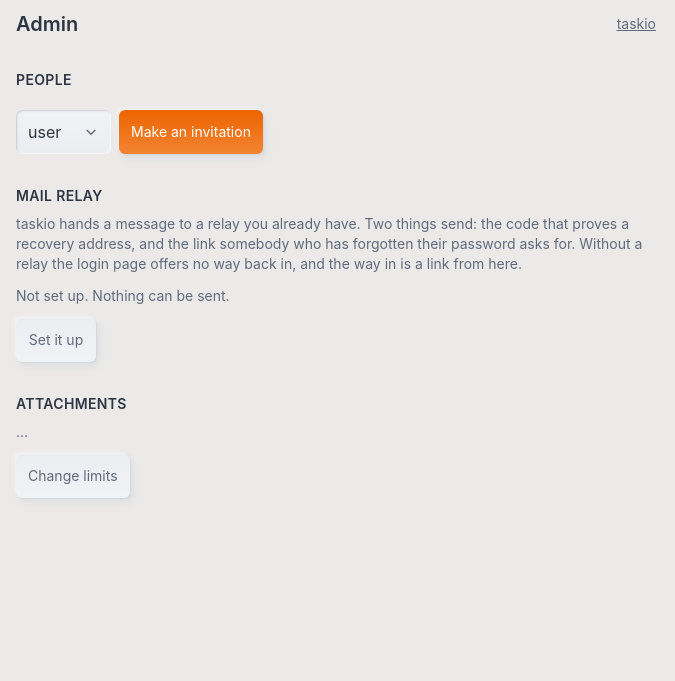
Test case: Admin › shows an invitation under the button that made it, with a copy
The image size is (675, 681).
Click the button "Make an invitation".
click(191, 132)  # box [119,110,263,154]
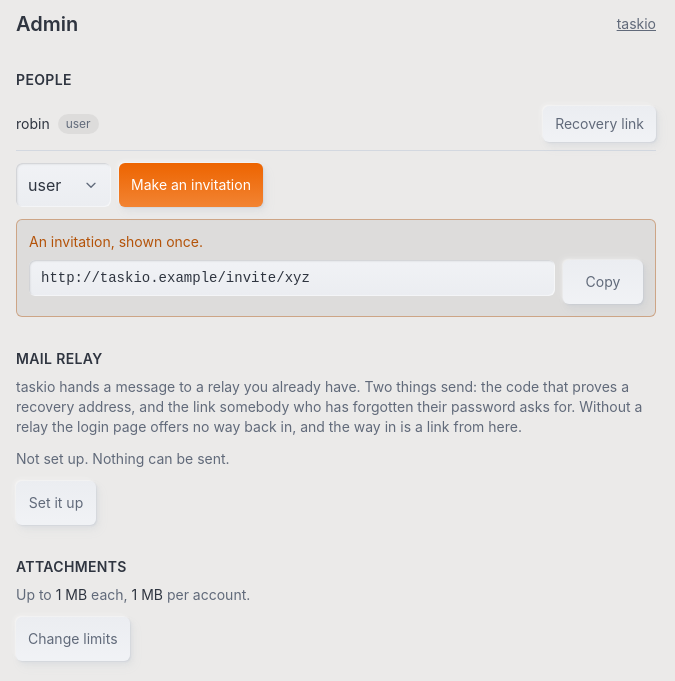
Result: the text "http://taskio.example/invite/xyz" is shown at [29,260,555,296]
Result: the button "Copy" is shown at [563,260,643,304]
